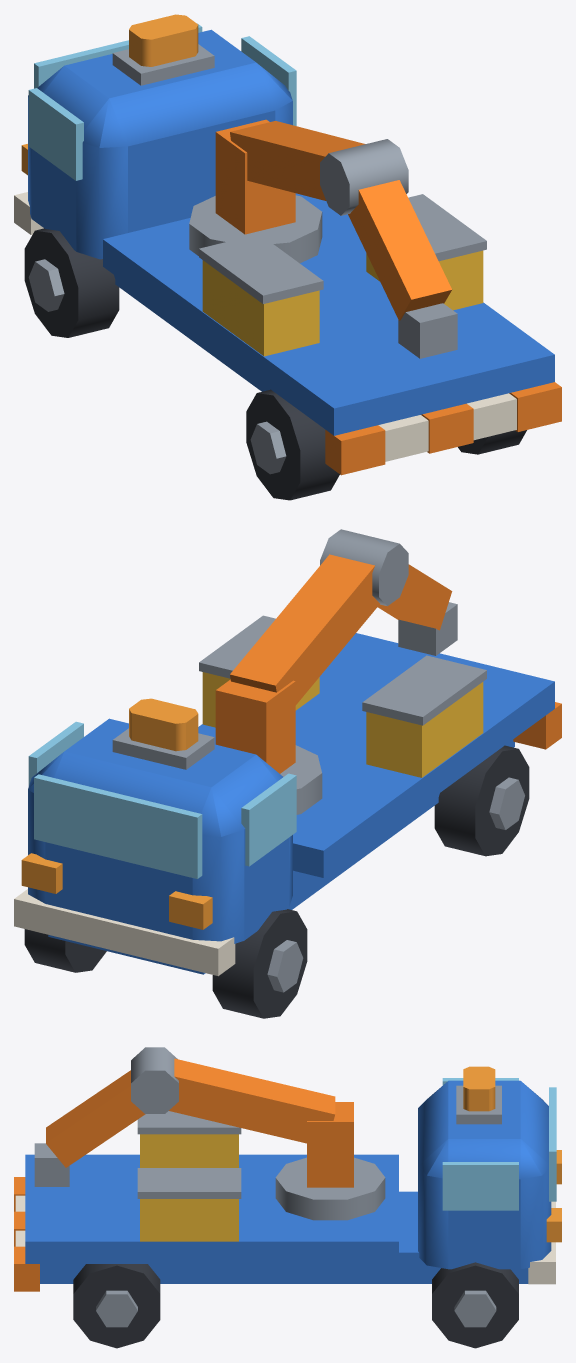
The model's file is unit-repair.glb.
The picture shows the model from 3 angles, top to bottom: view 1: azimuth 30°, elevation 25°; view 2: azimuth 150°, elevation 25°; view 3: azimuth 270°, elevation 25°; orthographic projection. The views are drawn at different scales.
Parts seen in each view (by area): view 1: flatbed, cab, crane, wheel (×3), chassis; view 2: cab, flatbed, crane, wheel (×3), chassis; view 3: flatbed, cab, crane, wheel (×2), chassis.
Boxes of the visible parts, box(x1,y1,x2,y2) form: flatbed: box(103, 193, 561, 475); cab: box(14, 14, 296, 259); crane: box(189, 119, 457, 358); wheel (×3): box(24, 228, 526, 500); chassis: box(114, 275, 270, 391); cab: box(14, 698, 296, 976); flatbed: box(198, 615, 561, 877); crane: box(215, 529, 457, 814); wheel (×3): box(24, 745, 529, 1018); chassis: box(48, 739, 514, 974); flatbed: box(14, 1111, 398, 1291); cab: box(418, 1066, 561, 1284); crane: box(34, 1047, 385, 1220); wheel (×2): box(73, 1262, 518, 1348); chassis: box(40, 1191, 528, 1283).
Bounding box in the file's own units: 3.04 × 3.53 × 7.18.
